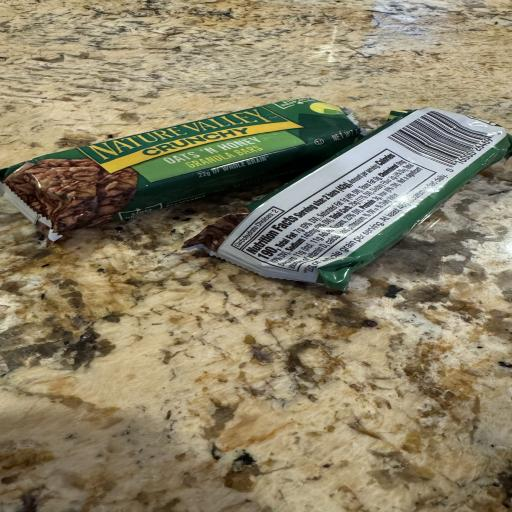granola: (184, 108, 511, 290), (0, 98, 359, 240)
